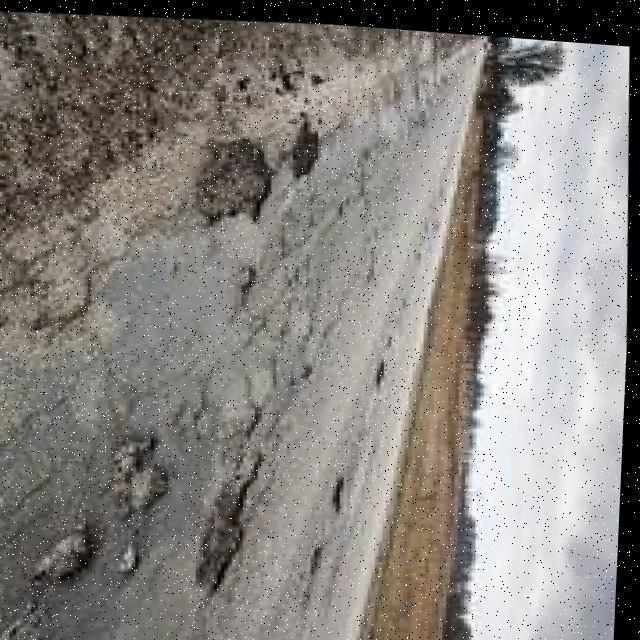Pothole: (192, 393, 273, 598), (105, 428, 178, 514), (34, 523, 109, 590), (282, 107, 324, 176), (226, 260, 260, 288)
